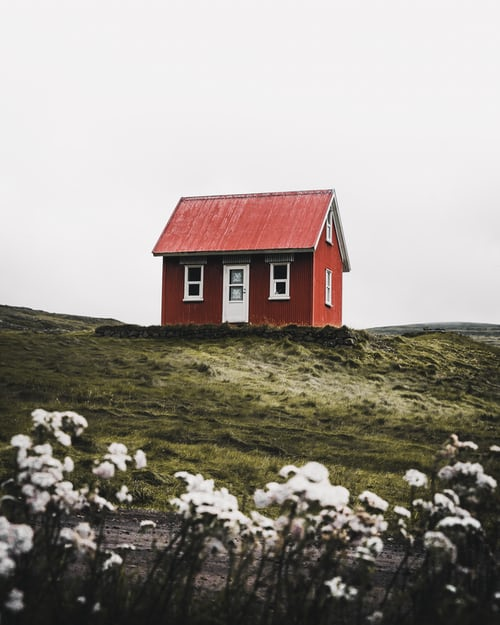house: (146, 193, 356, 332)
